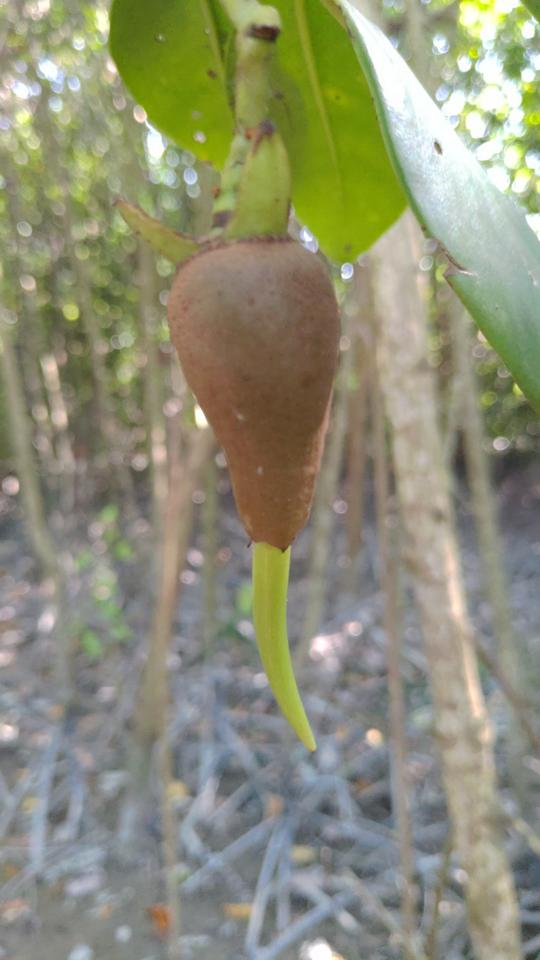mentah: (139, 133, 364, 773)
